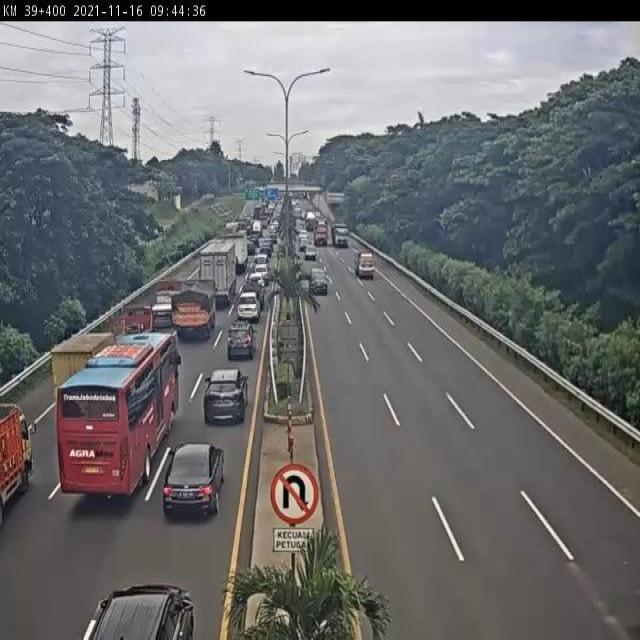ARABA: (162, 449, 223, 527), (203, 371, 247, 428), (225, 322, 254, 362), (236, 295, 258, 325), (311, 266, 329, 298), (242, 284, 265, 307), (247, 270, 266, 290)
KAMYONET: (46, 339, 113, 409), (169, 284, 215, 340), (151, 281, 186, 331), (111, 305, 151, 347)
OTOBUS: (55, 342, 179, 506)
TIR: (195, 239, 237, 304)
